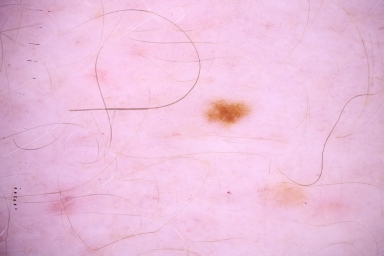nevus: (203, 99, 251, 123)
